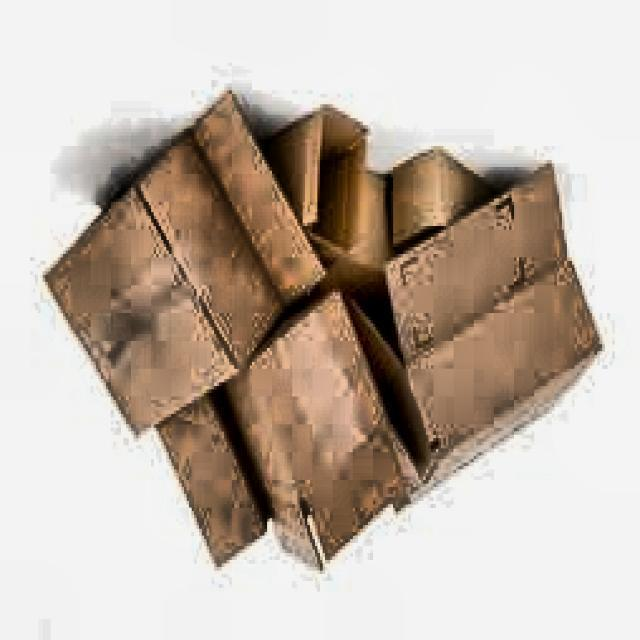cardboard: (40, 93, 602, 578)
